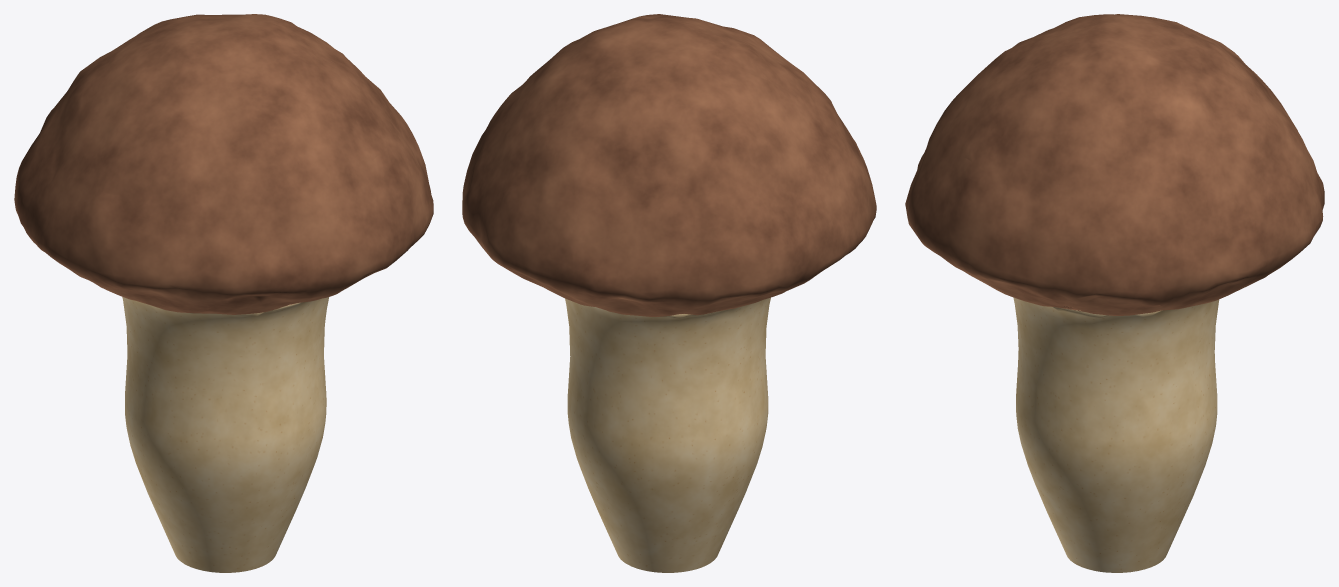
Rendered from Snack_Kinoko.fbx.
3 renders of one model, left to right at view 1: azimuth 30°, elevation 25°; view 2: azimuth 150°, elevation 25°; view 3: azimuth 270°, elevation 25°, orthographic.
Parts seen in each view (by area): view 1: Snack_Kinoko; view 2: Snack_Kinoko; view 3: Snack_Kinoko.
Part boxes in pixels (x1=…): Snack_Kinoko: x1=14, y1=14, x2=433, y2=572; Snack_Kinoko: x1=462, y1=14, x2=876, y2=572; Snack_Kinoko: x1=905, y1=14, x2=1324, y2=572.
Bounding box in the file's own units: 202 × 277 × 202.
